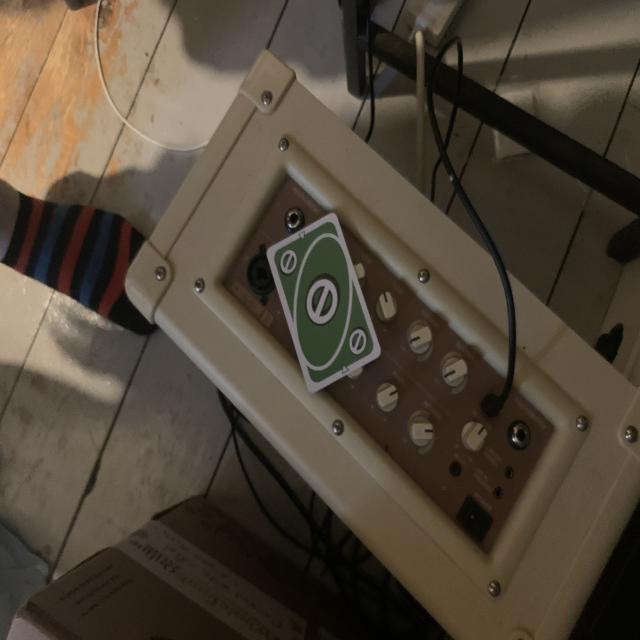lgreenskip-20: (277, 248, 300, 278)
